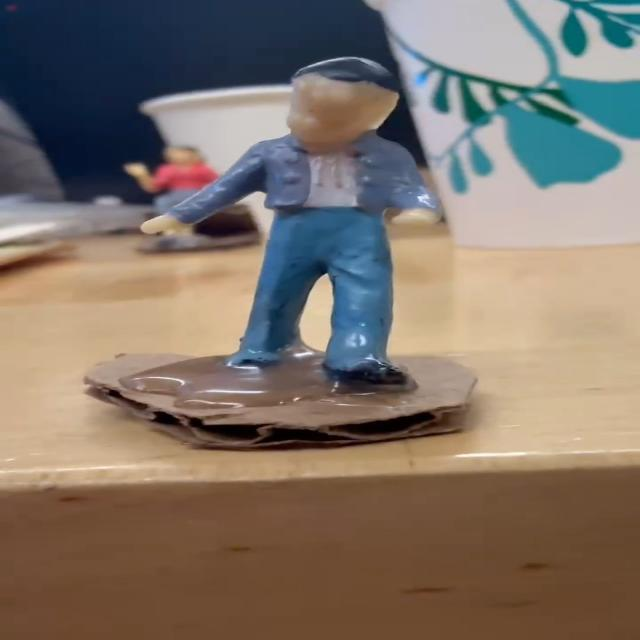Authorized: (123, 43, 505, 404)
